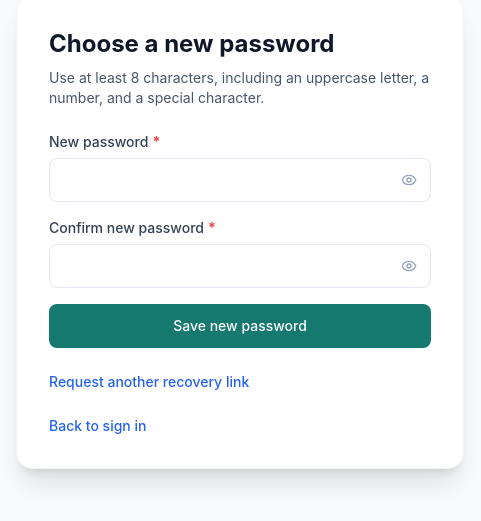
password recovery pages › prevents mismatched passwords and saves a valid replacement
In the password field labelled "New password": {"x": 240, "y": 180} [49, 158, 431, 202], type "N3wPassword!"
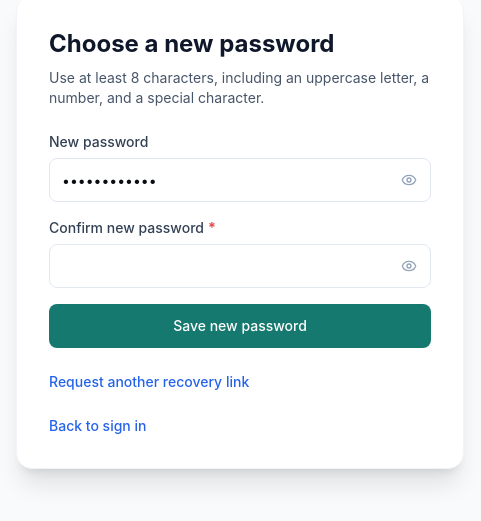
In the password field labelled "Confirm new password": {"x": 240, "y": 266} [49, 244, 431, 288], type "Another1!"
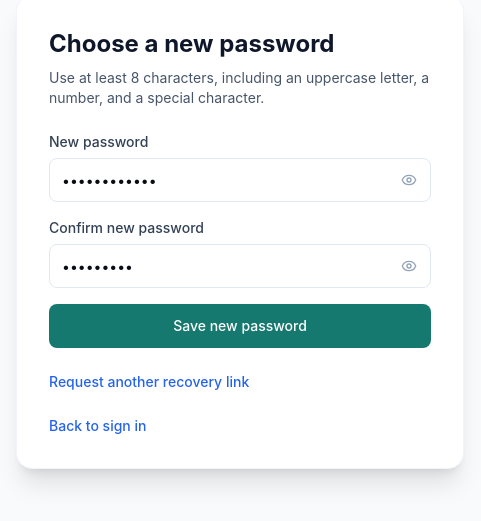
Click the button "Save new password": {"x": 240, "y": 326} [49, 304, 431, 348]
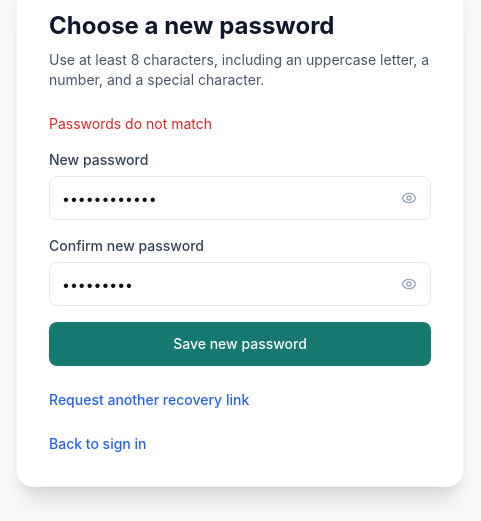
Result: the message reads "Passwords do not match" at [49, 115, 212, 132]
In the password field labelled "Confirm new password": {"x": 240, "y": 284} [49, 262, 431, 306], type "N3wPassword!"
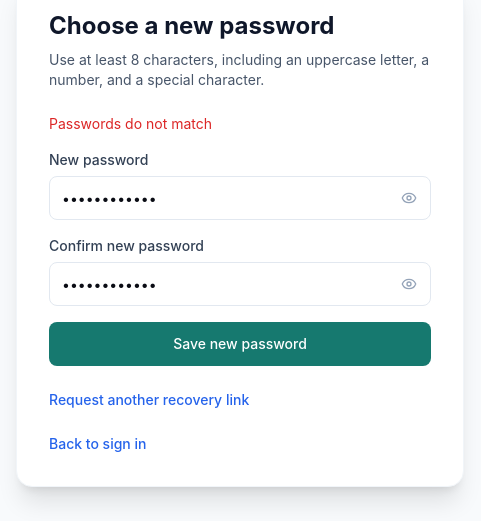
Click the button "Save new password": {"x": 240, "y": 344} [49, 322, 431, 366]
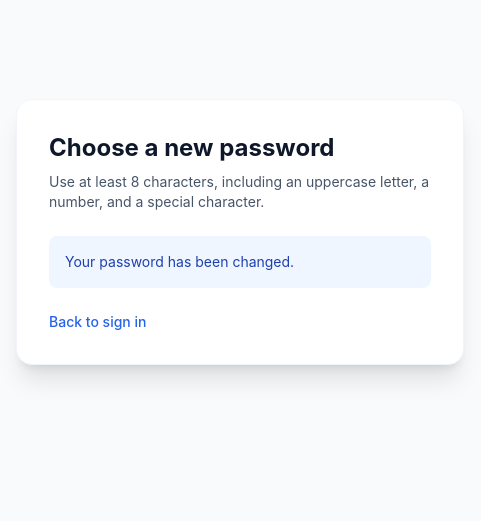
Result: the message reads "Your password has been changed." at [65, 253, 294, 270]
